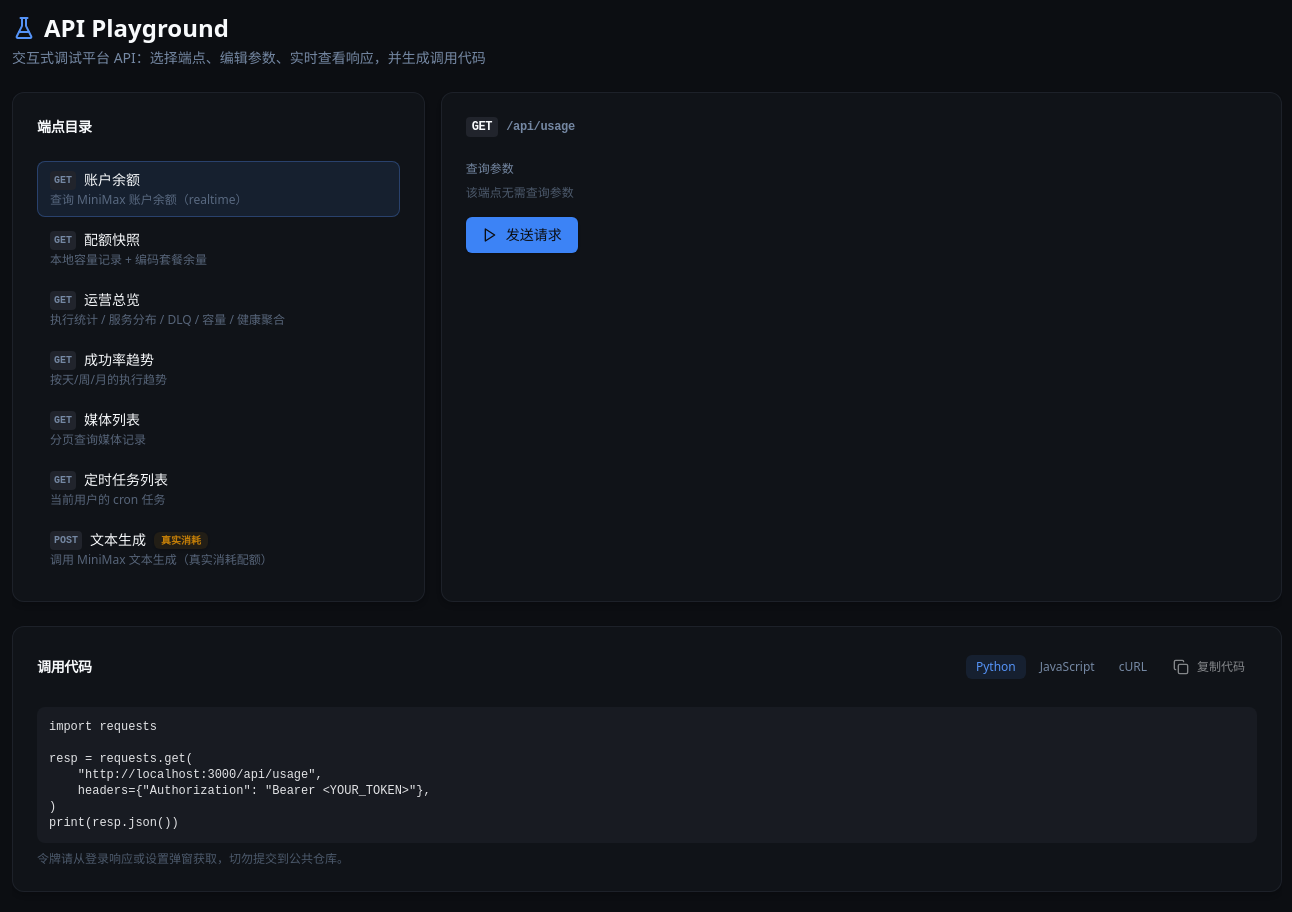
Test case: Playground › 请求失败展示错误状态与响应体
What coordinates should you click on to do the following:
click the button "发送请求"
I would click on:
 (522, 235)
Its box is 466,217 -> 578,253.
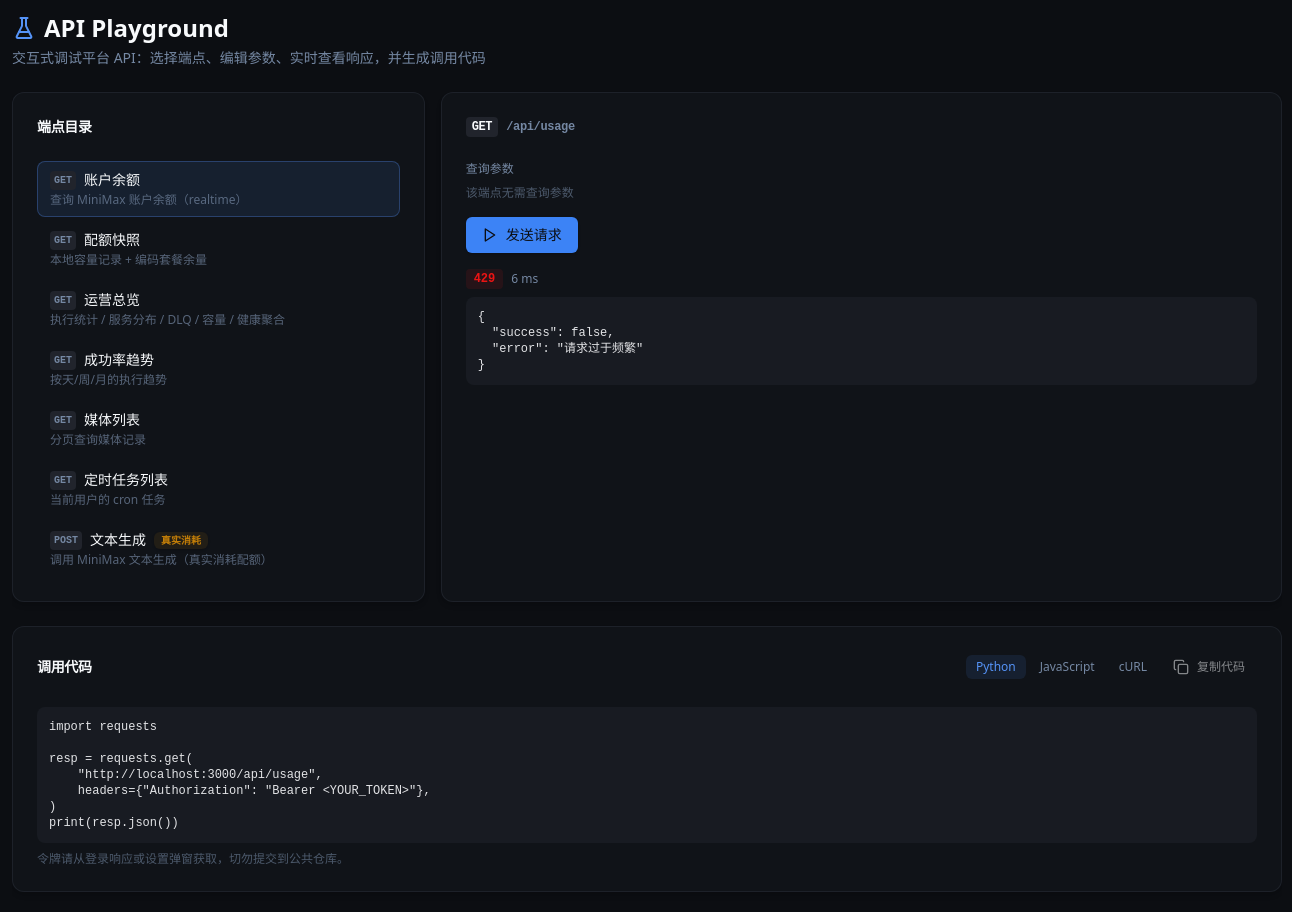
expect the text "429" is shown: met, box 466,269 -> 503,289
expect the text "{ \"success\": false, \"error\": \"请求过于频繁\" }" is shown: met, box 466,297 -> 1257,385
